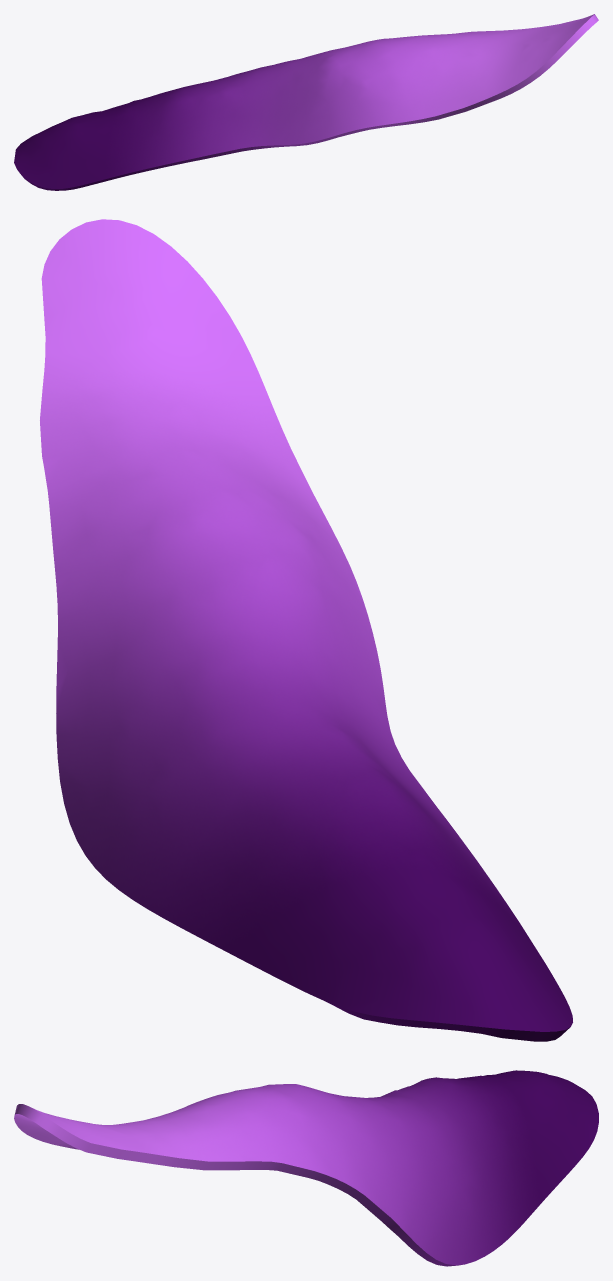
3 renders of one model, top to bottom at view 1: azimuth 30°, elevation 25°; view 2: azimuth 150°, elevation 25°; view 3: azimuth 270°, elevation 25°, orthographic. The views are drawn at different scales.
Visible parts, largest first — view 1: a1_lh; view 2: a1_lh; view 3: a1_lh.
Boxes of the visible parts, x1,y1,x2,y2 form: a1_lh: [14, 14, 598, 190]; a1_lh: [40, 219, 572, 1041]; a1_lh: [14, 1070, 598, 1266].
Size of the model in its own units: 194 by 86.52 by 164.
